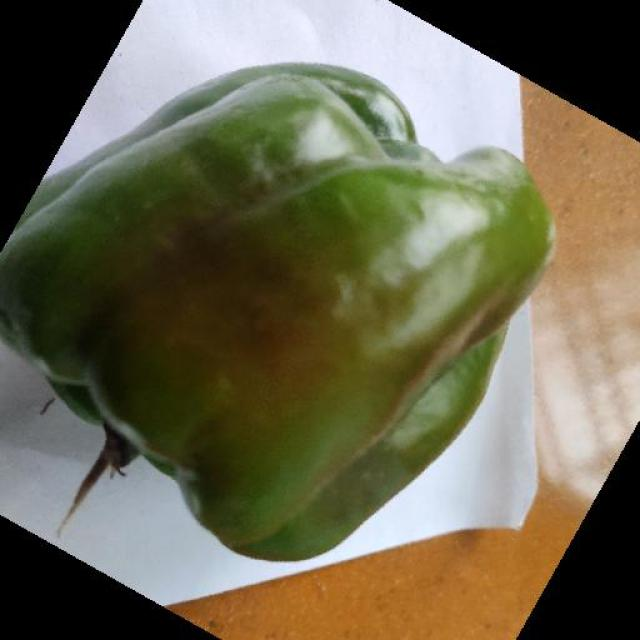Stale_Capsicum: (34, 54, 538, 522)
